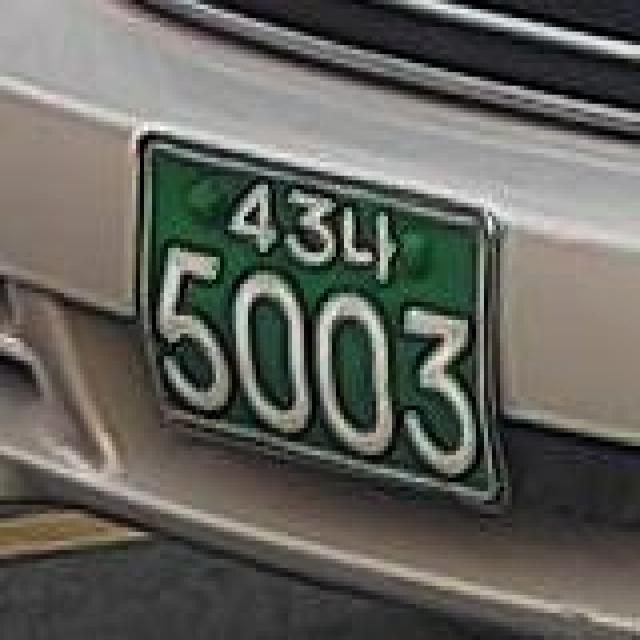illegal_plate: (109, 111, 524, 533)
